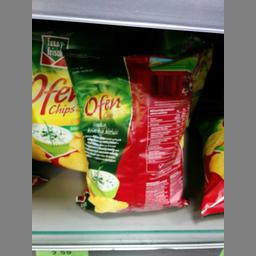chips: (73, 49, 191, 214)
